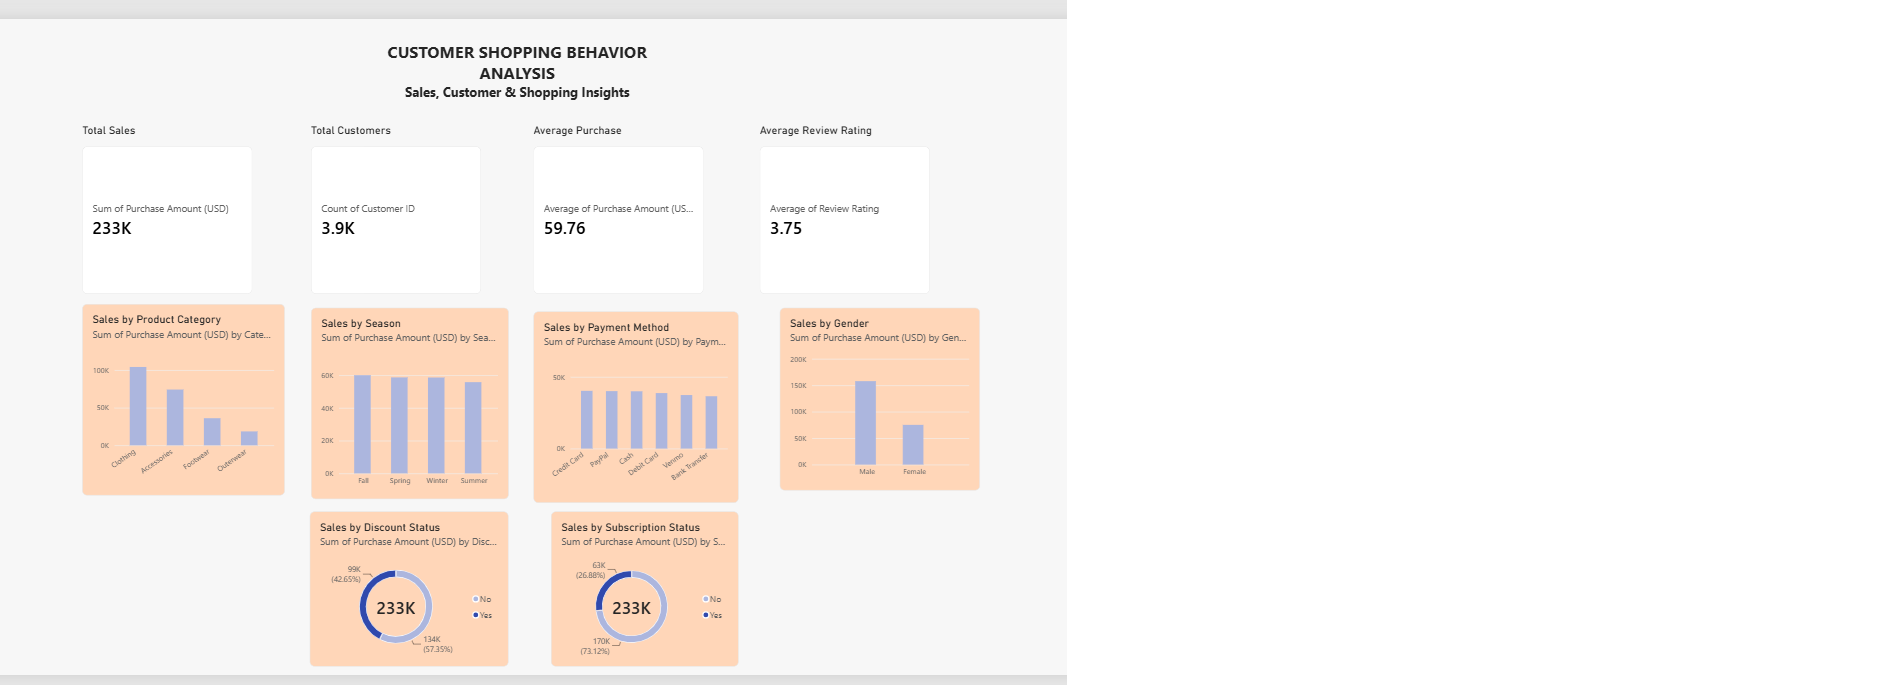

The page's visual inventory and layout, read from the dashboard file:
{"tool":"powerbi","page":{"name":"Page 1","canvas":[1920,1080],"ordinal":0},"visuals":[{"type":"cardVisual","title":"Total Sales","fields":{"Data":["Sum(customer_shopping_behavior.Purchase Amount (USD))"]},"box":[257.3,172.9,280,280],"z":0},{"type":"cardVisual","title":"Total Customers","fields":{"Data":["Count(customer_shopping_behavior.Customer ID)"]},"box":[634,172.9,280,280],"z":1},{"type":"cardVisual","title":"Average Purchase","fields":{"Data":["Avg(customer_shopping_behavior.Purchase Amount (USD))"]},"box":[1029.2,172.9,280,280],"z":2},{"type":"cardVisual","title":"Average Review Rating","fields":{"Data":["Avg(customer_shopping_behavior.Review Rating)"]},"box":[1412,172.9,280,280],"z":3},{"type":"clusteredColumnChart","title":"Sales by Product Category","fields":{"Category":["customer_shopping_behavior.Category"],"Y":["Sum(customer_shopping_behavior.Purchase Amount (USD))"]},"box":[257.3,481.6,280,280],"z":4},{"type":"clusteredColumnChart","title":"Sales by Season","fields":{"Category":["customer_shopping_behavior.Season"],"Y":["Sum(customer_shopping_behavior.Purchase Amount (USD))"]},"box":[634,481.6,280,280],"z":6},{"type":"clusteredColumnChart","title":"Sales by Gender","fields":{"Category":["customer_shopping_behavior.Gender"],"Y":["Sum(customer_shopping_behavior.Purchase Amount (USD))"]},"box":[257.3,800.7,280,280],"z":7},{"type":"clusteredColumnChart","title":"Sales by Payment Method","fields":{"Category":["customer_shopping_behavior.Payment Method"],"Y":["Sum(customer_shopping_behavior.Purchase Amount (USD))"]},"box":[634,800.7,279.9,265.5],"z":8},{"type":"donutChart","title":"Sales by Subscription Status","fields":{"Category":["customer_shopping_behavior.Subscription Status"],"Y":["Sum(customer_shopping_behavior.Purchase Amount (USD))"]},"box":[1023,496.1,312.9,249.1],"z":9},{"type":"donutChart","title":"Sales by Discount Status","fields":{"Category":["customer_shopping_behavior.Discount Applied"],"Y":["Sum(customer_shopping_behavior.Purchase Amount (USD))"]},"box":[1037.4,800.7,298.5,240.8],"z":10},{"type":"textbox","box":[722.5,0,382.8,146.1],"z":11}]}

Visuals, with their boxes on the page's 1920x1080 design canvas (x1, y1, x2, y2). These are canvas units, not pixel positions in the 1879x685 screenshot, which may show the page scaled, cropped or inside an application window:
"Total Sales" cardVisual: pyautogui.locateOnScreen(257, 173, 537, 453)
"Total Customers" cardVisual: pyautogui.locateOnScreen(634, 173, 914, 453)
"Average Purchase" cardVisual: pyautogui.locateOnScreen(1029, 173, 1309, 453)
"Average Review Rating" cardVisual: pyautogui.locateOnScreen(1412, 173, 1692, 453)
"Sales by Product Category" clusteredColumnChart: pyautogui.locateOnScreen(257, 482, 537, 762)
"Sales by Season" clusteredColumnChart: pyautogui.locateOnScreen(634, 482, 914, 762)
"Sales by Gender" clusteredColumnChart: pyautogui.locateOnScreen(257, 801, 537, 1081)
"Sales by Payment Method" clusteredColumnChart: pyautogui.locateOnScreen(634, 801, 914, 1066)
"Sales by Subscription Status" donutChart: pyautogui.locateOnScreen(1023, 496, 1336, 745)
"Sales by Discount Status" donutChart: pyautogui.locateOnScreen(1037, 801, 1336, 1042)
textbox: pyautogui.locateOnScreen(722, 0, 1105, 146)
